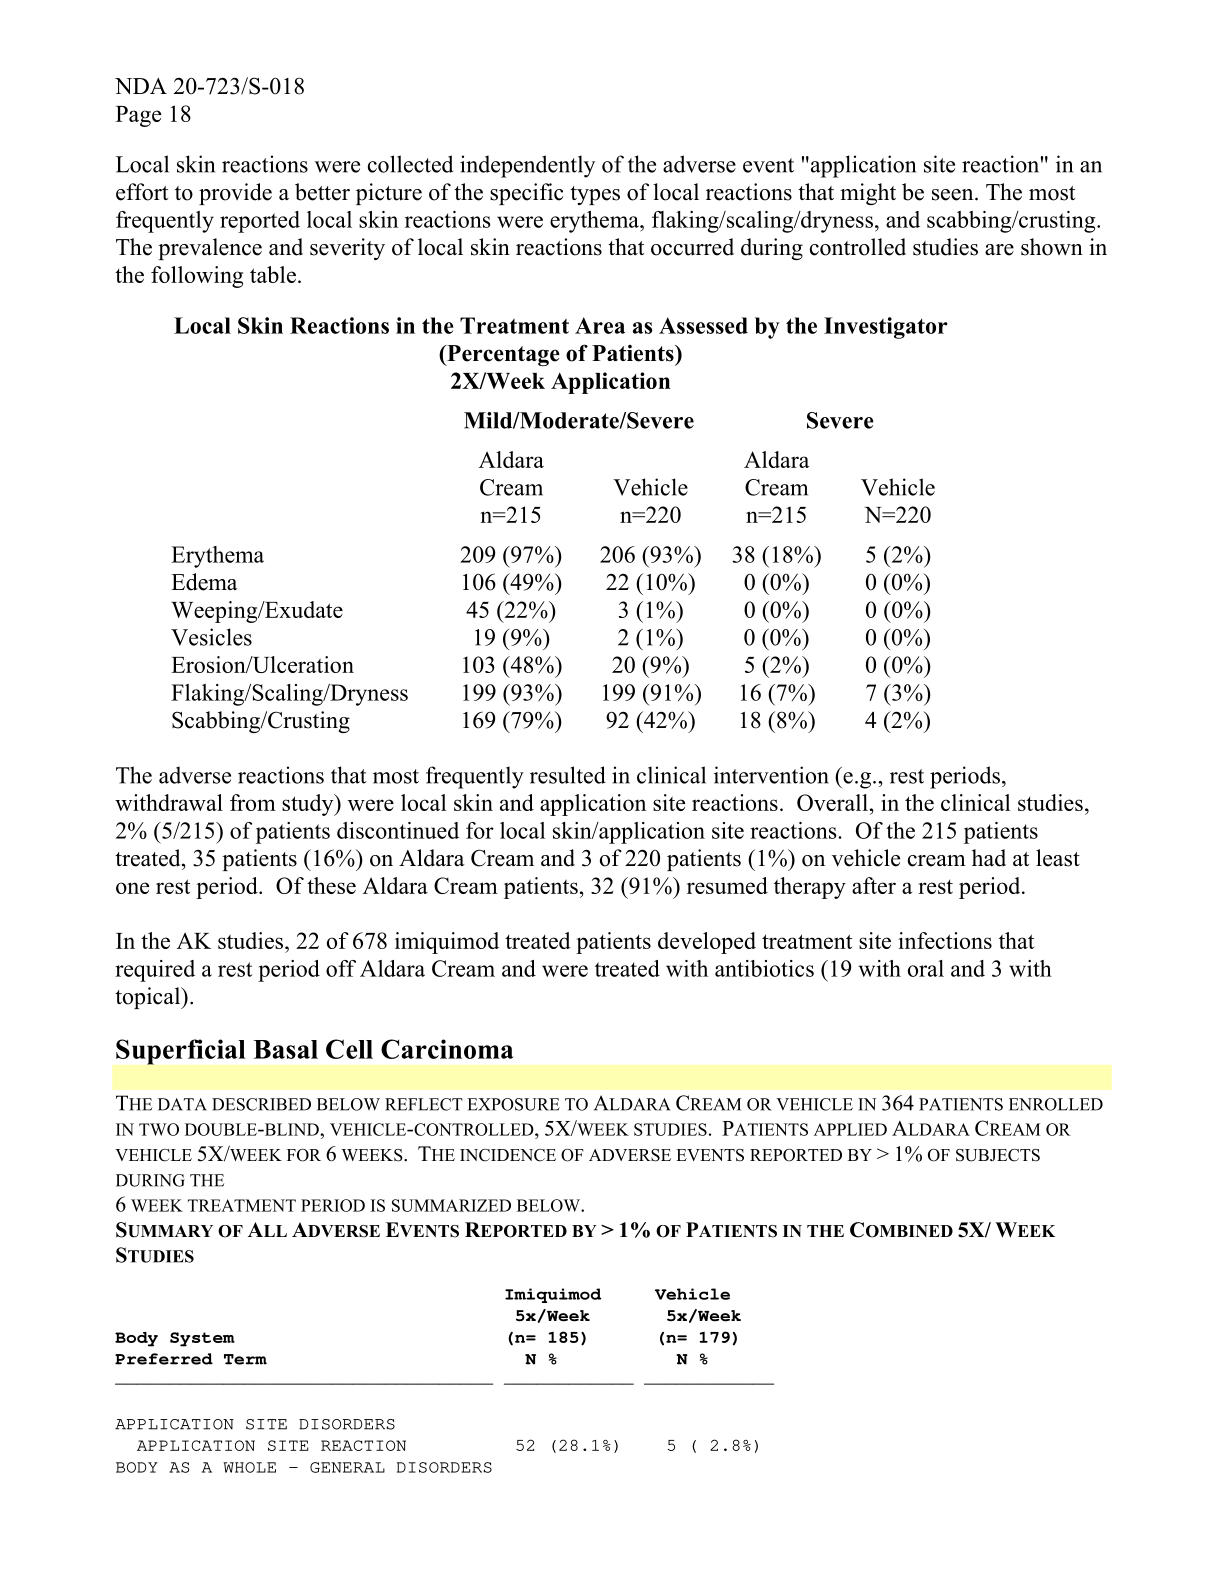nolines: (168, 409, 939, 732), (113, 1284, 777, 1477)
